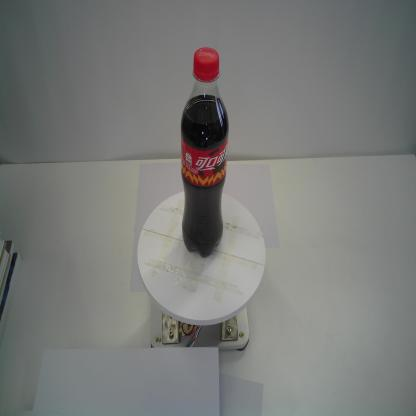Drink: (180, 46, 229, 260)
